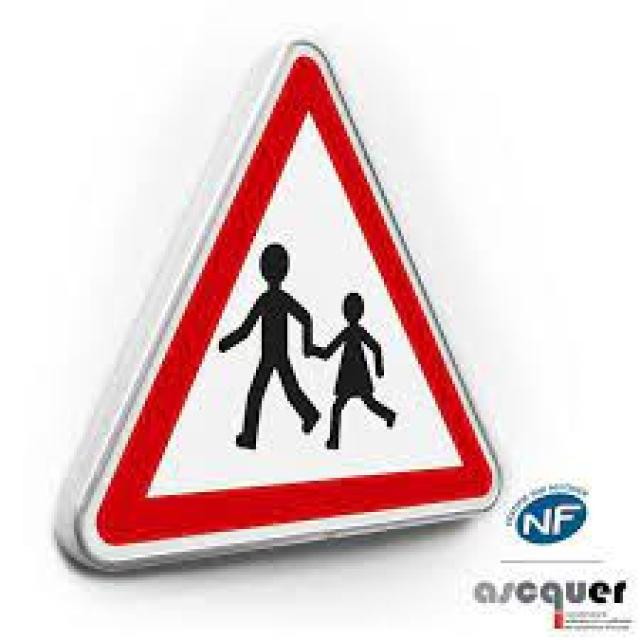AttentionEnfant: (65, 42, 515, 580)
